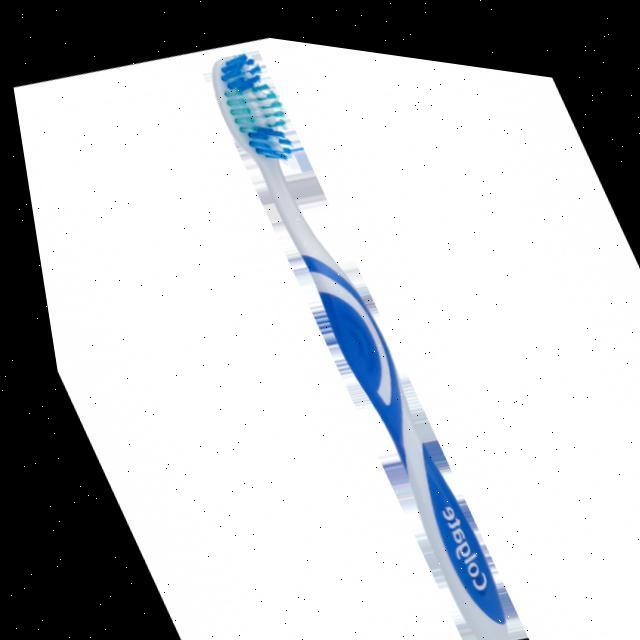toothbrush: (188, 28, 536, 640)
